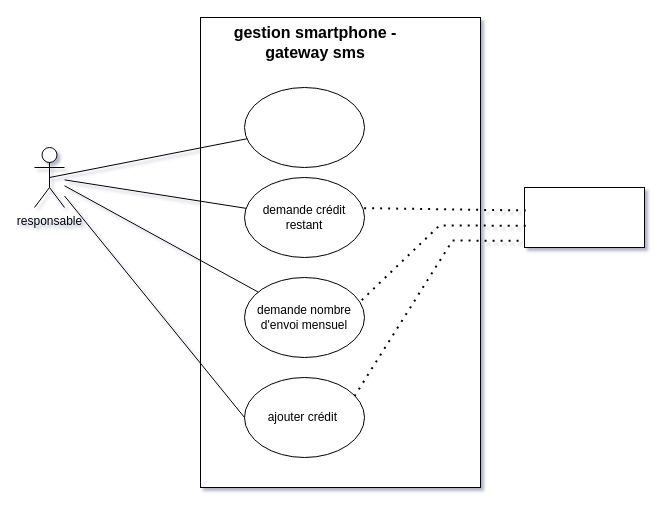
The diagram is 668 pixels wide and 511 high, and some of its shapes have lost their labels. Here are the shapes that lost their labels. From the top down, the box of each, then its label:
(244, 86, 364, 168): allumer/eteindre service
(524, 186, 644, 248): nécessite une authentification "stateless"
